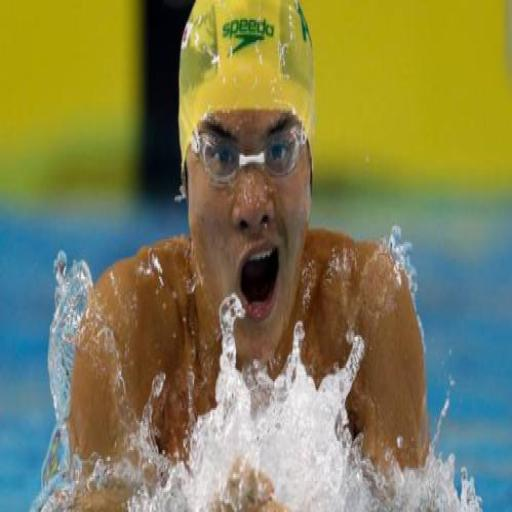swimming: (38, 0, 438, 510)
